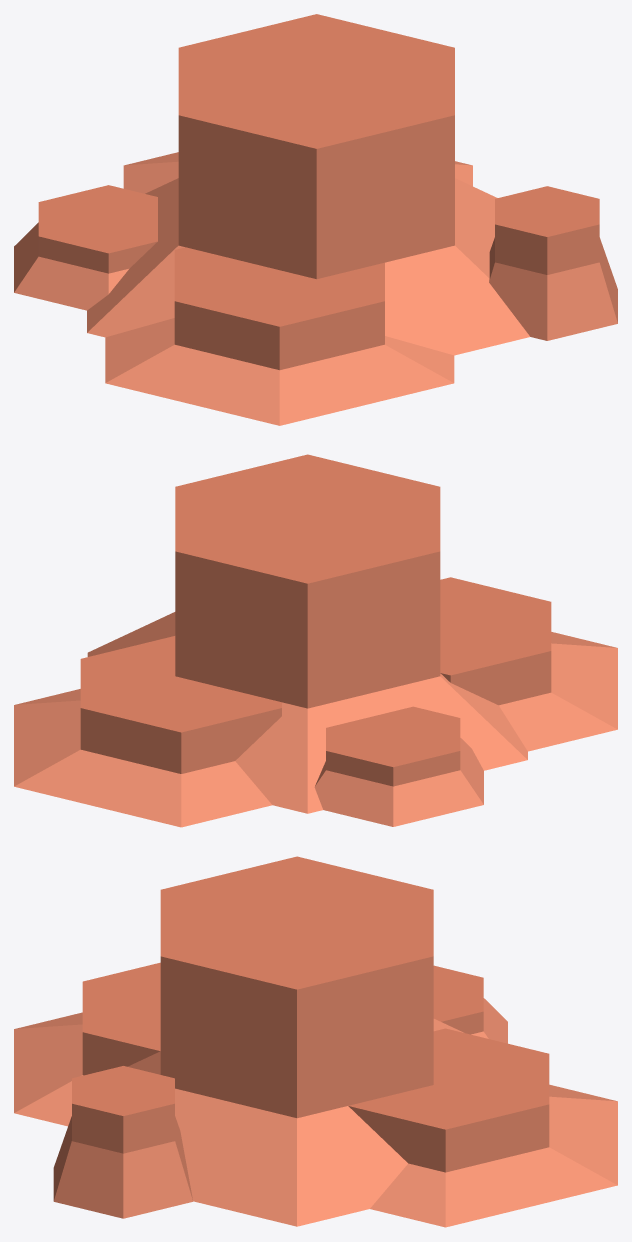
Rendered from rock.dae.
3 renders of one model, top to bottom at view 1: azimuth 30°, elevation 25°; view 2: azimuth 150°, elevation 25°; view 3: azimuth 270°, elevation 25°, orthographic. The views are drawn at different scales.
Parts seen in each view (by area): view 1: rock; view 2: rock; view 3: rock.
Part boxes in pixels (x1,y1,x2,y2): rock: (14, 14, 617, 425); rock: (14, 454, 617, 827); rock: (14, 856, 617, 1227).
Bounding box in the file's own units: 0.8015 × 0.3 × 0.8509.
